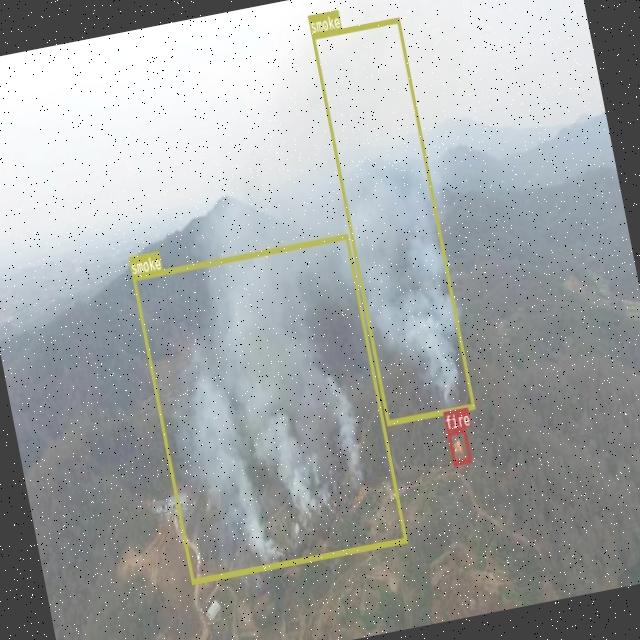fire: (446, 428, 471, 466)
smoke: (132, 233, 407, 584), (310, 17, 474, 426)
